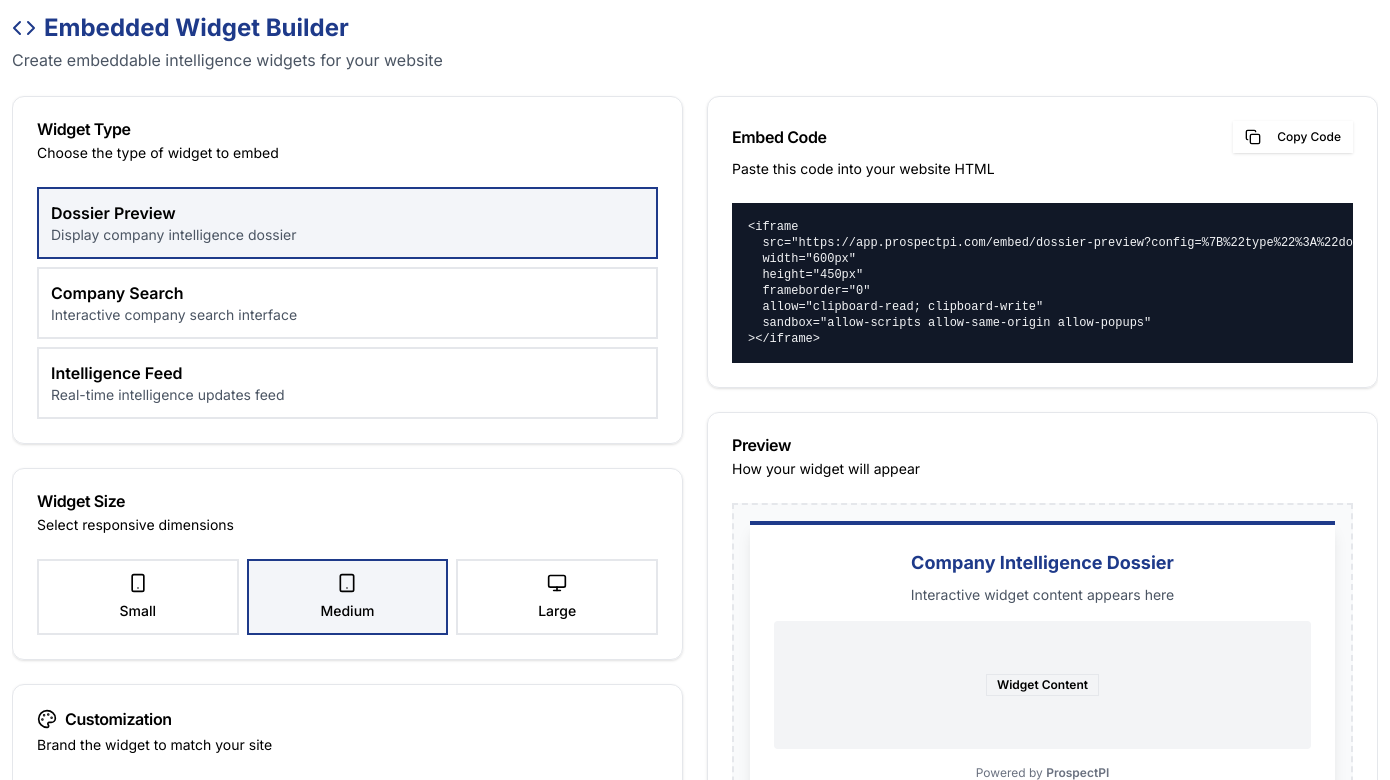
Test case: Story 7.3: Embedded Widgets & White-label Options › shows copied confirmation after copy
The image size is (1390, 780).
Click the button "Copy Code". click: [1293, 137]
box: top-left (1233, 121), bottom-right (1353, 153)
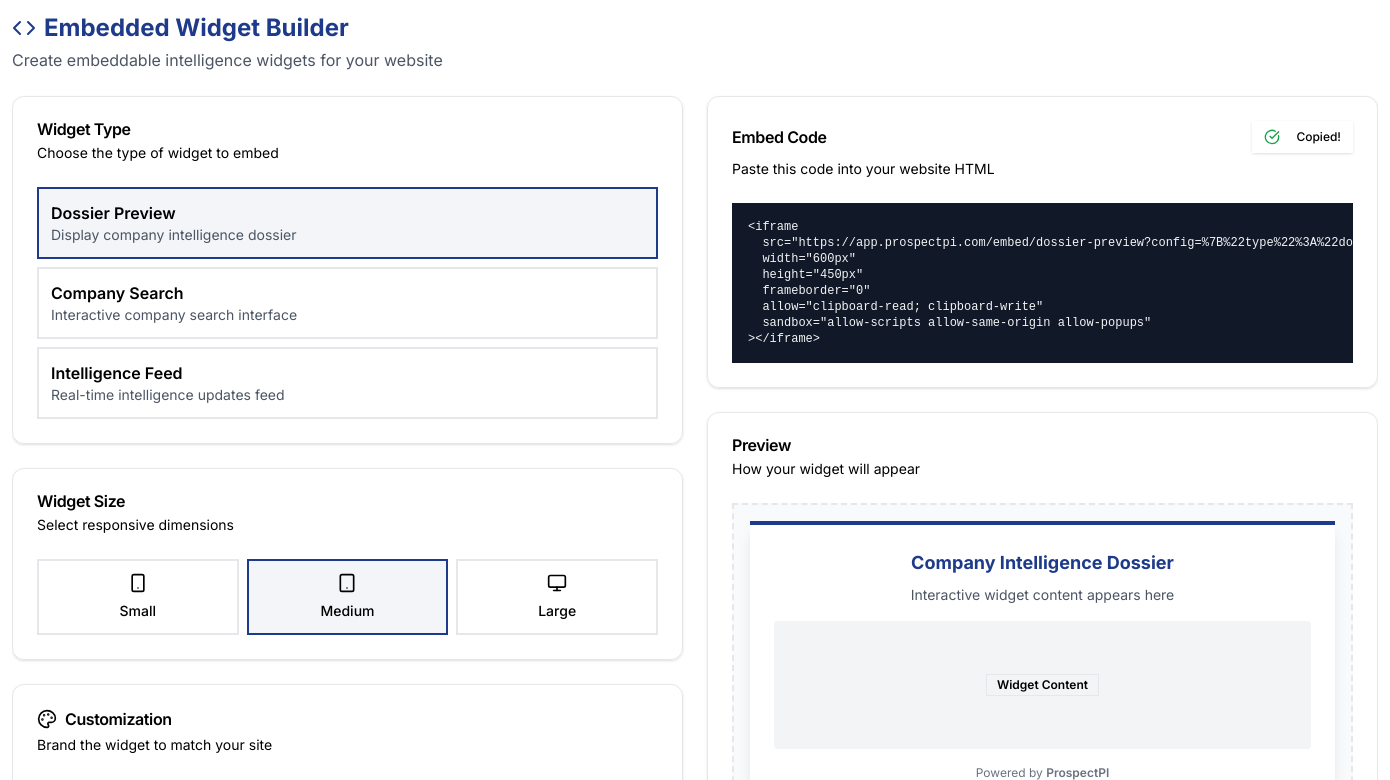
Now the button "Copied!" is shown, box top-left (1252, 121), bottom-right (1353, 153)
